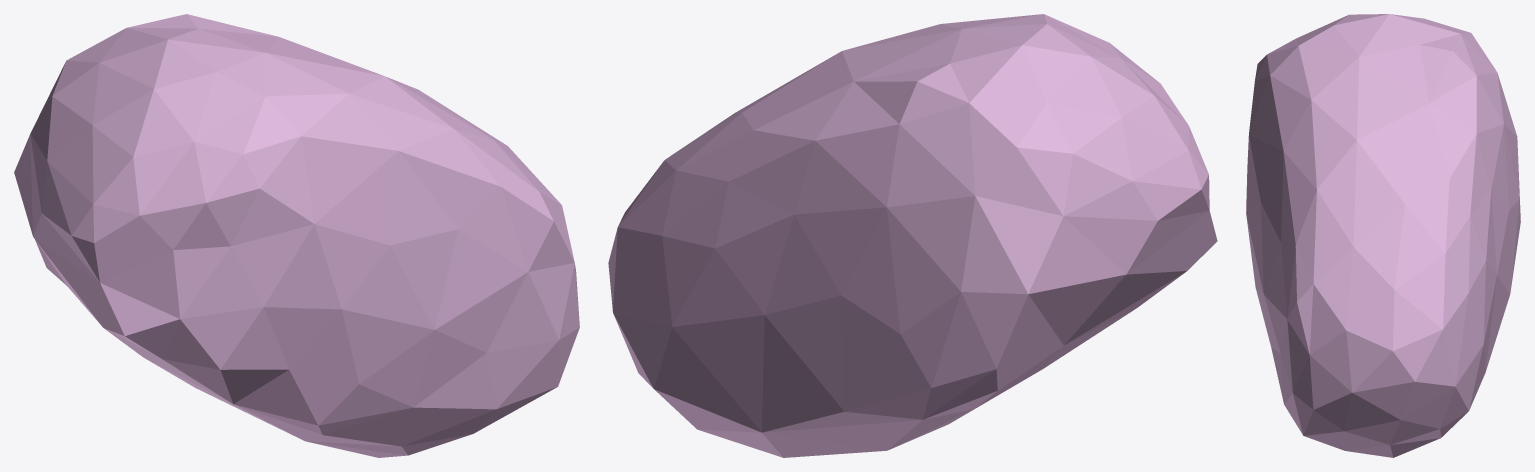
3 views of the same model, side by side, from view 1: azimuth 30°, elevation 25°; view 2: azimuth 150°, elevation 25°; view 3: azimuth 270°, elevation 25° (orthographic). The views are drawn at different scales.
Visible parts, largest first — view 1: 607344838.obj; view 2: 607344838.obj; view 3: 607344838.obj.
Boxes of the visible parts, x1,y1,x2,y2 form: 607344838.obj: (14,14,579,457); 607344838.obj: (608,14,1217,457); 607344838.obj: (1246,14,1520,457).
Size of the model in its own units: 570 by 463 by 341.
